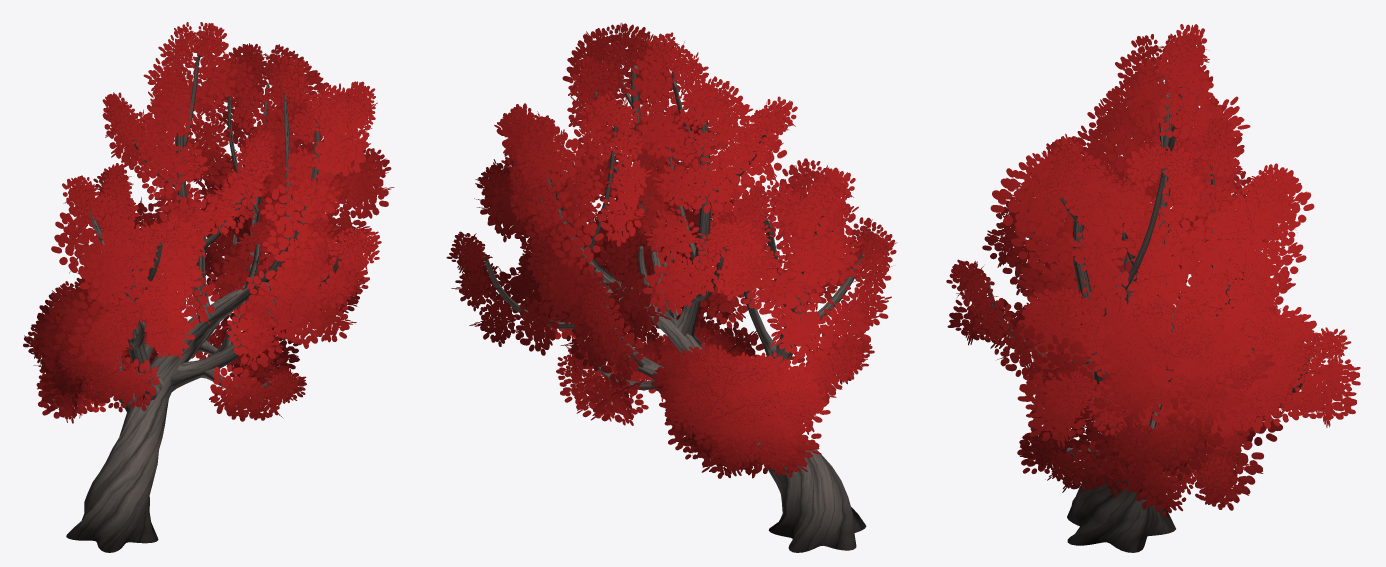
The model's file is TwistedTree_1.gltf.
The picture shows the model from 3 angles, left to right: view 1: azimuth 30°, elevation 25°; view 2: azimuth 150°, elevation 25°; view 3: azimuth 270°, elevation 25°; orthographic projection. The views are drawn at different scales.
Parts seen in each view (by area): view 1: TwistedTree_1; view 2: TwistedTree_1; view 3: TwistedTree_1.
Boxes of the visible parts, left/top/right/bottom form: TwistedTree_1: left=23, top=22, right=394, bottom=552; TwistedTree_1: left=446, top=22, right=897, bottom=552; TwistedTree_1: left=946, top=24, right=1360, bottom=552.
Size of the model in its own units: 13.52 by 16.73 by 11.55.
Materials: 2 (2 with a texture image).
